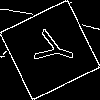Y: (25, 25, 78, 72)
